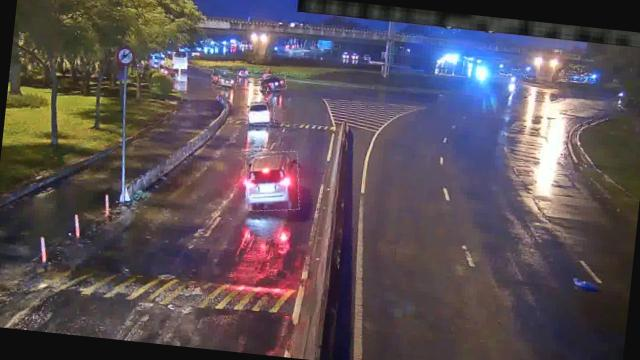Car: (242, 148, 303, 214), (246, 96, 276, 127), (210, 69, 238, 90), (259, 72, 287, 92)
